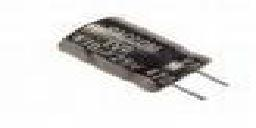Electrolytic-Capacitor: (57, 13, 234, 104)
